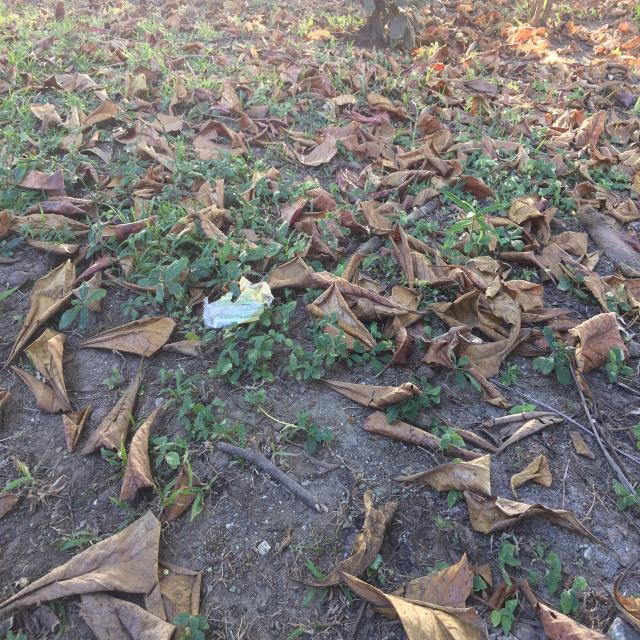Plastic film: (203, 276, 274, 329)
